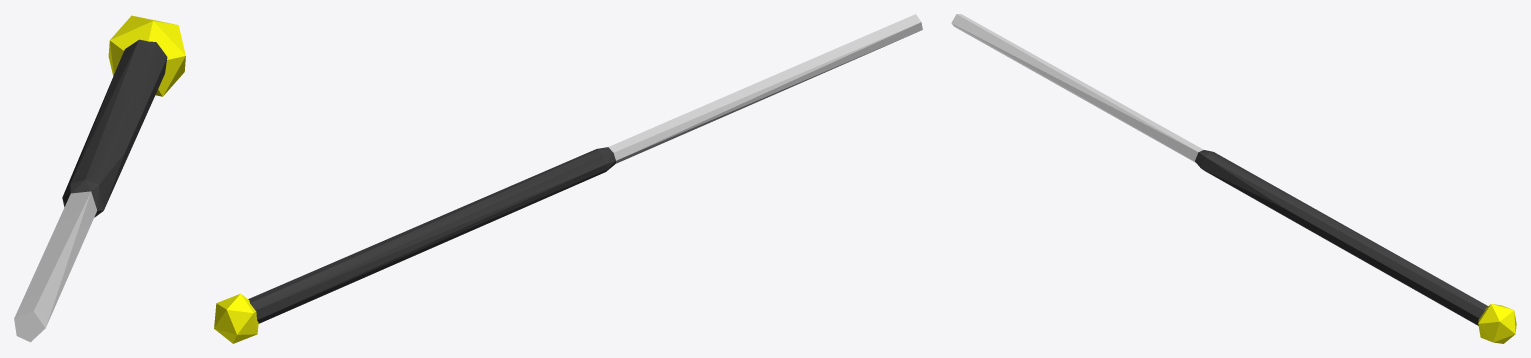
The model's file is Sparkler.fbx.
The picture shows the model from 3 angles, left to right: view 1: azimuth 90°, elevation 25°; view 2: azimuth 210°, elevation 25°; view 3: azimuth 330°, elevation 25°; orthographic projection. The views are drawn at different scales.
Parts seen in each view (by area): view 1: sparkler, sparklertip; view 2: sparkler, sparklertip; view 3: sparkler, sparklertip.
Boxes of the visible parts, left/top/right/bottom form: sparkler: left=14, top=39, right=167, bottom=342; sparklertip: left=108, top=15, right=185, bottom=96; sparkler: left=248, top=14, right=922, bottom=323; sparklertip: left=214, top=293, right=258, bottom=343; sparkler: left=951, top=14, right=1487, bottom=325; sparklertip: left=1478, top=304, right=1516, bottom=343.
Bounding box in the file's own units: 23.51 × 6.46 × 2.96.
